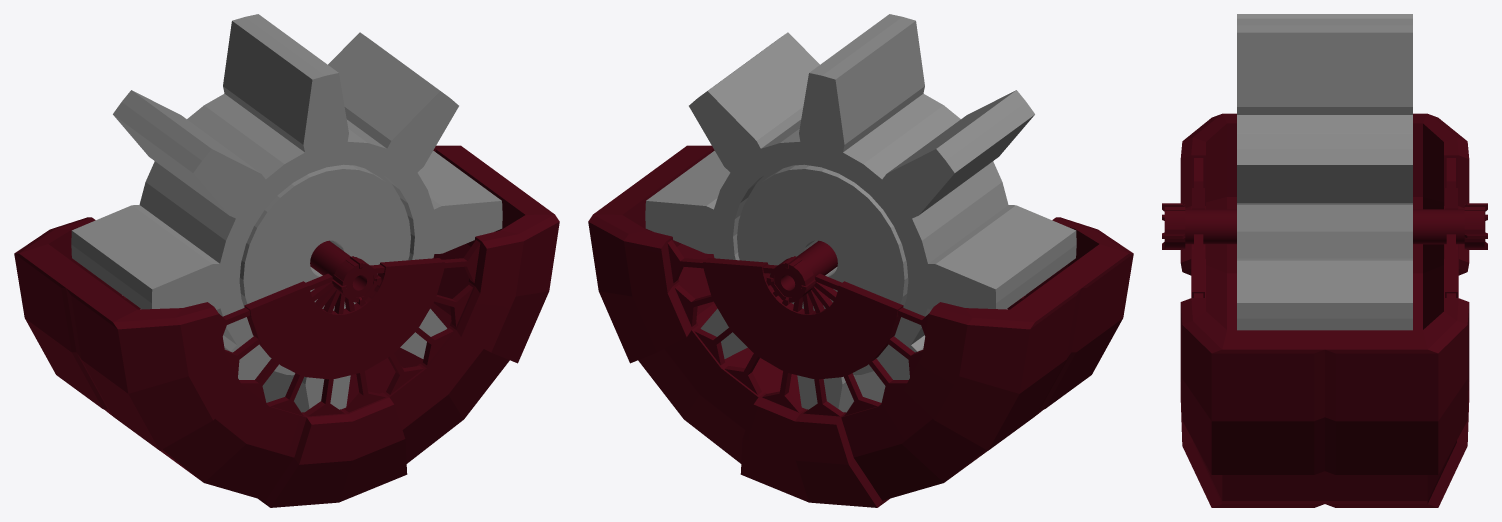
File: Heavy_Gear.fbx
3 views of the same model, side by side, from view 1: azimuth 30°, elevation 25°; view 2: azimuth 150°, elevation 25°; view 3: azimuth 270°, elevation 25° (orthographic). The views are drawn at different scales.
Visible parts, largest first — view 1: Cylinder.002, Gear; view 2: Cylinder.002, Gear; view 3: Cylinder.002, Gear.
Part boxes in pixels (bbox=[...]): Cylinder.002: bbox=[14, 145, 559, 507]; Gear: bbox=[71, 14, 502, 412]; Cylinder.002: bbox=[588, 145, 1133, 507]; Gear: bbox=[645, 14, 1076, 412]; Cylinder.002: bbox=[1162, 113, 1487, 507]; Gear: bbox=[1237, 14, 1412, 330].
Bounding box in the file's own units: 3169 × 2869 × 1851.
